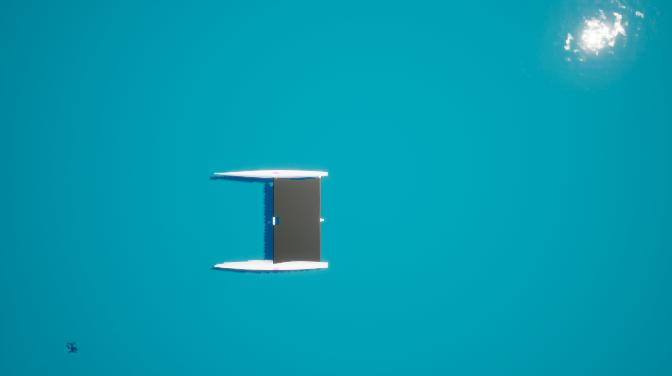boat: (209, 164, 333, 277)
drone: (65, 341, 80, 357)
land_base: (274, 179, 320, 261)
light_reflex: (541, 1, 669, 72)
